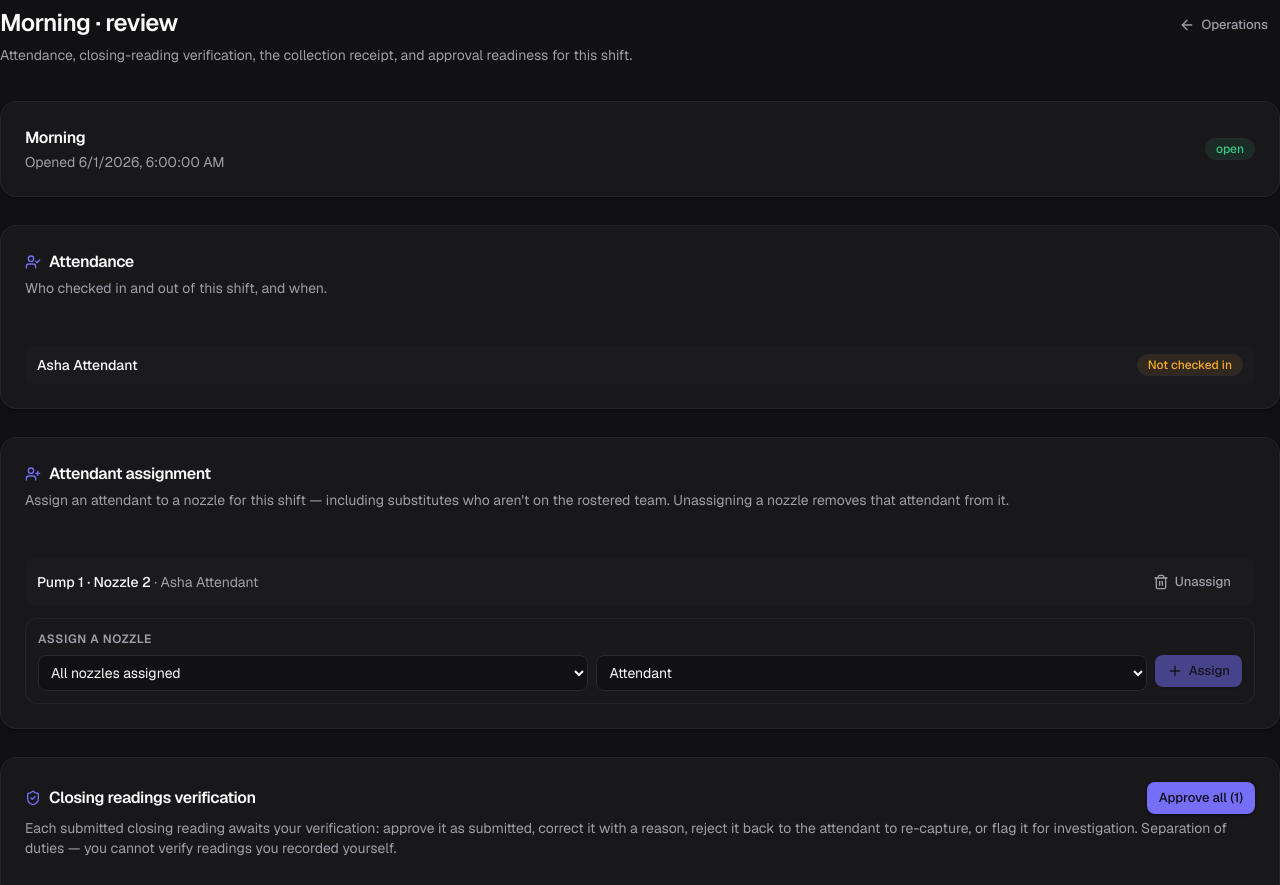
ShiftReviewPage › surfaces the separation-of-duties 403 from batch verify cleanly
The width and height of the screenshot is (1280, 885).
Click the button "Approve all (1)". click: x=1201, y=798
box: [1147,782,1255,814]
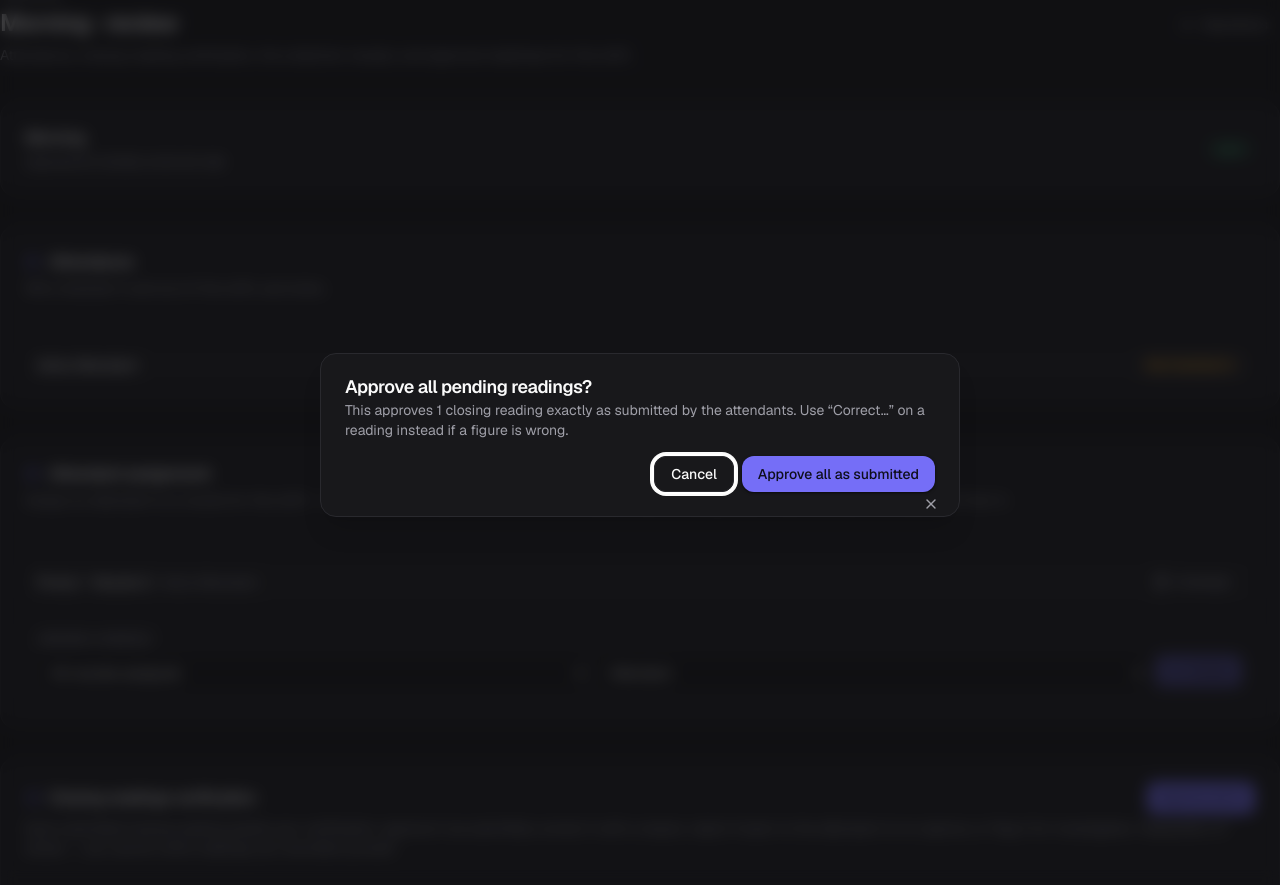
Click the button "Approve all as submitted". click: x=838, y=474
box: [742,456,935,492]
(page scrolled)
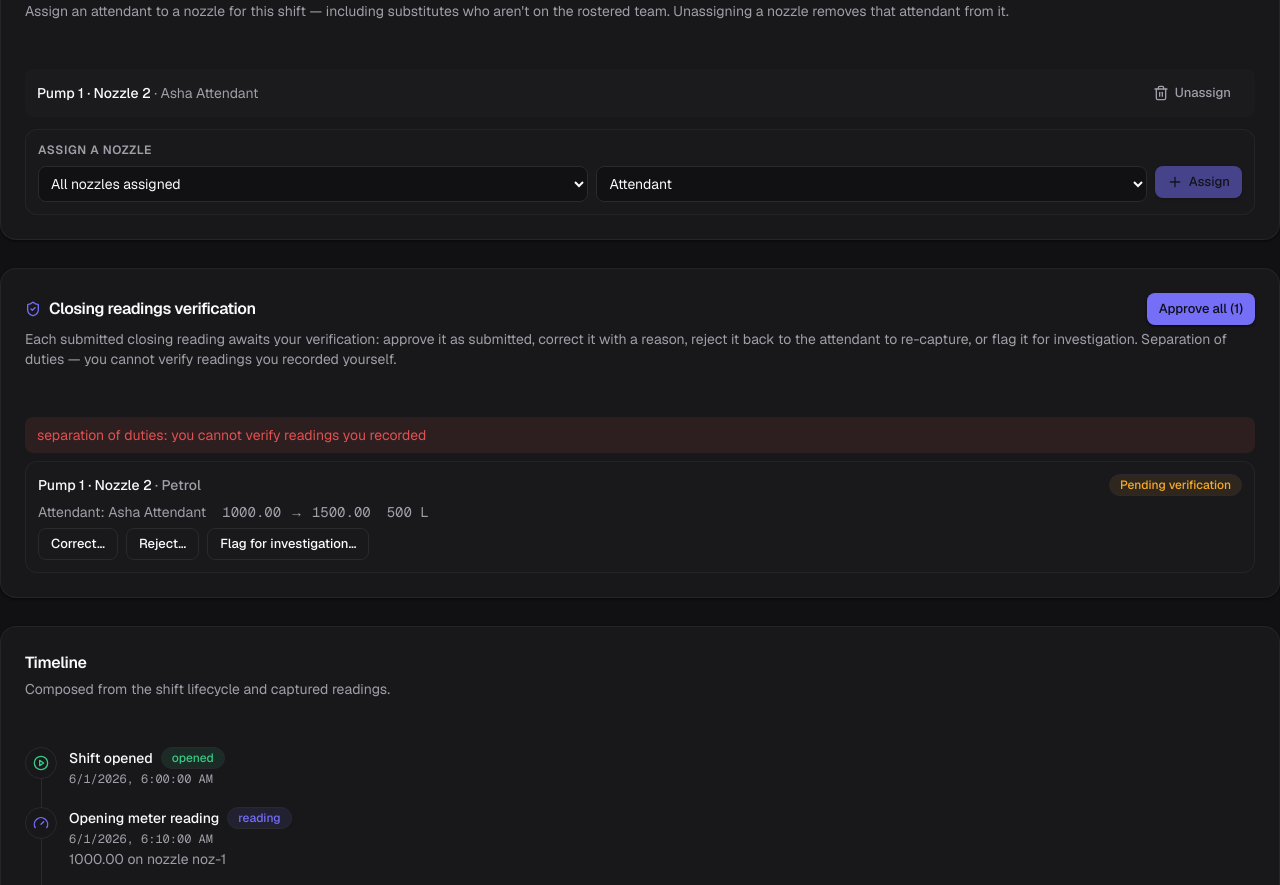
Expected: the text "separation of duties: you cannot verify readings you recorded" is shown, [25,417,1255,453]
